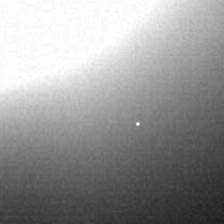Target: (134, 120, 141, 127)
